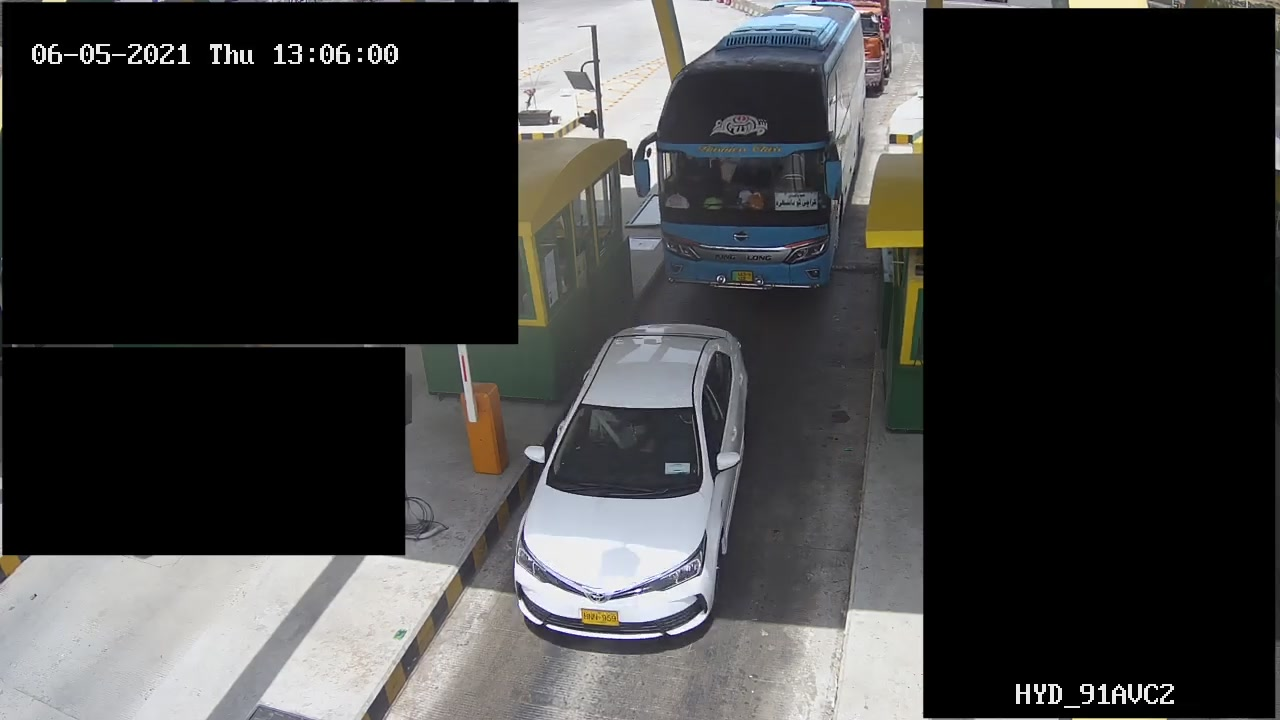F4: (653, 4, 871, 297)
